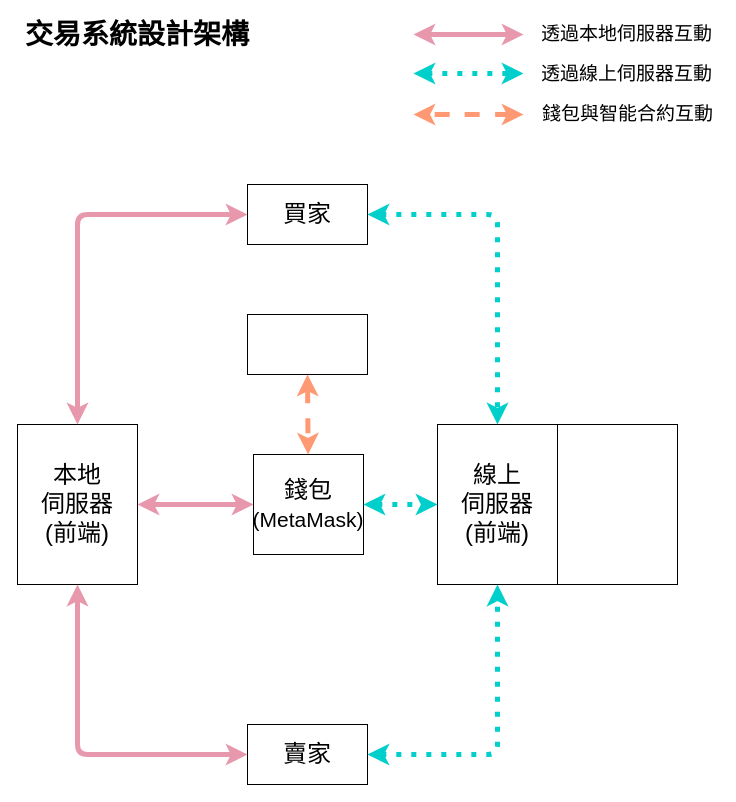
The diagram is 736 pixels wide and 802 high, and some of its shapes have lost their labels. Here are the shapes that lost their labels. From the top down, the centre of each, then its label:
At (x=307, y=344): "智能合約".
At (x=617, y=504): "線上 伺服器 (後端)".
